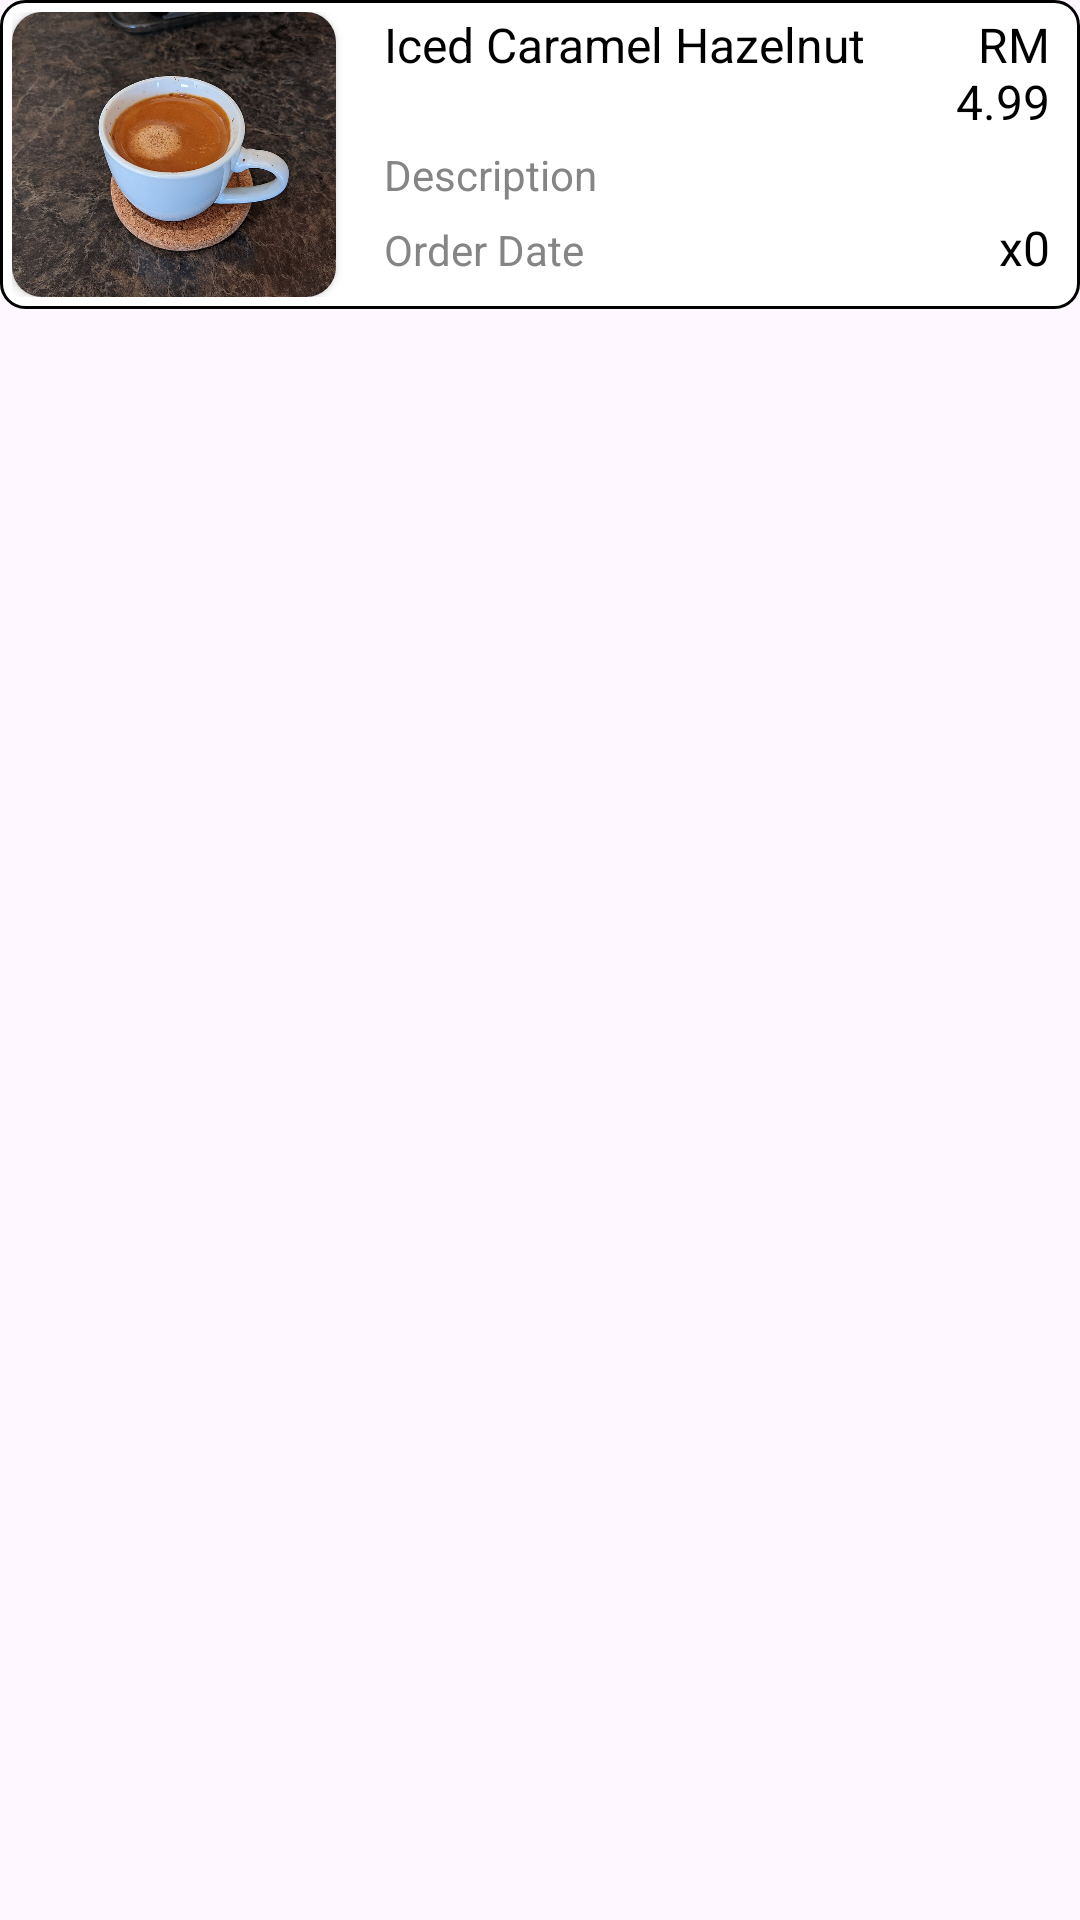

Icons on this 1080w x 1920h Android screen, each with its box as (x1, y1, x2, y2):
espressocoffee: (12, 12, 336, 297)
